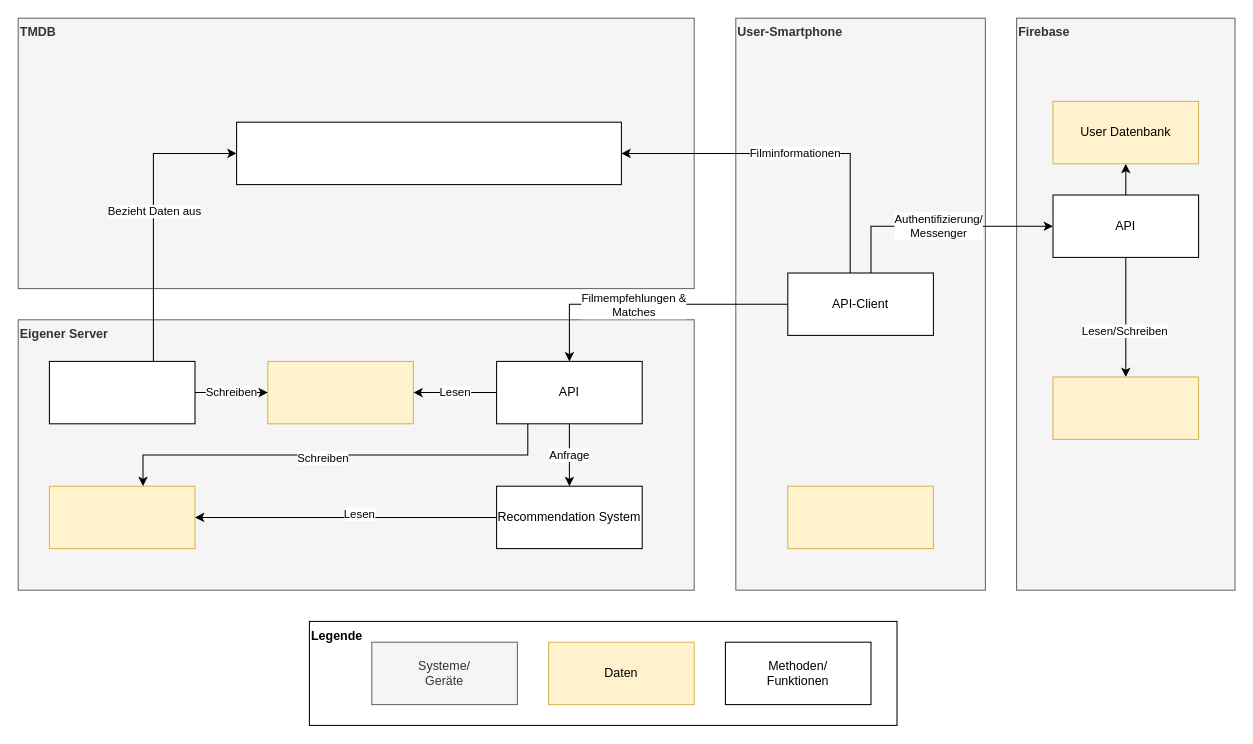
The diagram is 1253 pixels wide and 744 high, and some of its shapes have lost their labels. Each missing label, with the centre of its shape:
"Algorithmus zur Aktualisierung der Filmdatenbank" belongs at pixel 121 392.
"API (Filmposter, Rating, Besetzung, ...)" belongs at pixel 428 153.
"Chatverlauf" belongs at pixel 1125 407.
"Film-Datenbank" belongs at pixel 340 392.
"Lokale Einstellungen (Dark-Mode, ...)" belongs at pixel 860 517.
"Präferenzdatenbank zu jedem User" belongs at pixel 121 517.
